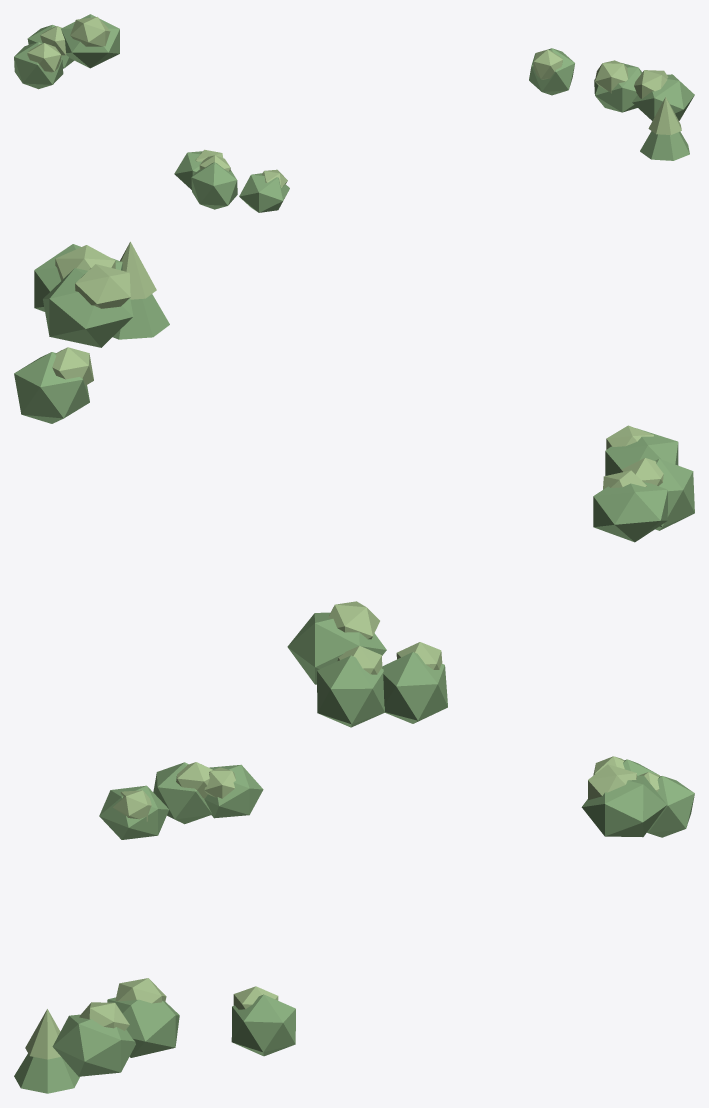
Rendered from path_split_meadow_wind_canopies.fbx.
3 renders of one model, top to bottom at view 1: azimuth 30°, elevation 25°; view 2: azimuth 150°, elevation 25°; view 3: azimuth 270°, elevation 25°, orthographic. The views are drawn at different scales.
Parts seen in each view (by area): view 1: chunk_path_split_meadow__tree_canopy_03, chunk_path_split_meadow__tree_canopy_12, chunk_path_split_meadow__tree_canopy_20, chunk_path_split_meadow__tree_canopy_09, chunk_path_split_meadow__tree_canopy_16, chunk_path_split_meadow__tree_canopy_01, chunk_path_split_meadow__tree_canopy_18, chunk_path_split_meadow__tree_canopy_14, chunk_path_split_meadow__tree_canopy_11, chunk_path_split_meadow__tree_canopy_15, chunk_path_split_meadow__tree_canopy_17, chunk_path_split_meadow__tree_canopy_02 (+4 smaller); view 2: chunk_path_split_meadow__tree_canopy_16, chunk_path_split_meadow__tree_canopy_08, chunk_path_split_meadow__tree_canopy_01, chunk_path_split_meadow__tree_canopy_04, chunk_path_split_meadow__tree_canopy_14, chunk_path_split_meadow__tree_canopy_12, chunk_path_split_meadow__tree_canopy_15, chunk_path_split_meadow__tree_canopy_09, chunk_path_split_meadow__tree_canopy_03, chunk_path_split_meadow__tree_canopy_18, chunk_path_split_meadow__tree_canopy_11, chunk_path_split_meadow__tree_canopy_20 (+3 smaller); view 3: chunk_path_split_meadow__tree_canopy_20, chunk_path_split_meadow__tree_canopy_12, chunk_path_split_meadow__tree_canopy_14, chunk_path_split_meadow__tree_canopy_16, chunk_path_split_meadow__tree_canopy_09, chunk_path_split_meadow__tree_canopy_03, chunk_path_split_meadow__tree_canopy_18, chunk_path_split_meadow__tree_canopy_08, chunk_path_split_meadow__tree_canopy_04, chunk_path_split_meadow__tree_canopy_17, chunk_path_split_meadow__tree_canopy_11, chunk_path_split_meadow__tree_canopy_15 (+5 smaller).
Boxes of the visible parts, x1,y1,x2,y2 form: chunk_path_split_meadow__tree_canopy_03: (191, 162, 237, 209); chunk_path_split_meadow__tree_canopy_12: (61, 14, 119, 68); chunk_path_split_meadow__tree_canopy_20: (632, 74, 694, 120); chunk_path_split_meadow__tree_canopy_09: (239, 173, 289, 212); chunk_path_split_meadow__tree_canopy_16: (594, 63, 642, 112); chunk_path_split_meadow__tree_canopy_01: (14, 42, 63, 89); chunk_path_split_meadow__tree_canopy_18: (640, 131, 689, 160); chunk_path_split_meadow__tree_canopy_14: (529, 48, 574, 95); chunk_path_split_meadow__tree_canopy_11: (70, 17, 110, 46); chunk_path_split_meadow__tree_canopy_15: (595, 60, 628, 93); chunk_path_split_meadow__tree_canopy_17: (648, 97, 681, 134); chunk_path_split_meadow__tree_canopy_02: (27, 43, 61, 72); chunk_path_split_meadow__tree_canopy_16: (43, 268, 133, 347); chunk_path_split_meadow__tree_canopy_08: (317, 655, 385, 727); chunk_path_split_meadow__tree_canopy_01: (382, 652, 447, 723); chunk_path_split_meadow__tree_canopy_04: (593, 482, 667, 542); chunk_path_split_meadow__tree_canopy_14: (14, 352, 89, 423); chunk_path_split_meadow__tree_canopy_12: (287, 612, 386, 684); chunk_path_split_meadow__tree_canopy_15: (75, 264, 130, 308); chunk_path_split_meadow__tree_canopy_09: (605, 428, 678, 475); chunk_path_split_meadow__tree_canopy_03: (655, 459, 694, 530); chunk_path_split_meadow__tree_canopy_18: (113, 294, 169, 339); chunk_path_split_meadow__tree_canopy_11: (328, 601, 379, 639); chunk_path_split_meadow__tree_canopy_20: (34, 244, 122, 311); chunk_path_split_meadow__tree_canopy_20: (52, 1014, 135, 1076); chunk_path_split_meadow__tree_canopy_12: (581, 775, 666, 837); chunk_path_split_meadow__tree_canopy_14: (231, 994, 295, 1056); chunk_path_split_meadow__tree_canopy_16: (107, 997, 179, 1057); chunk_path_split_meadow__tree_canopy_09: (99, 785, 169, 839); chunk_path_split_meadow__tree_canopy_03: (153, 762, 212, 824); chunk_path_split_meadow__tree_canopy_18: (14, 1053, 79, 1093); chunk_path_split_meadow__tree_canopy_08: (647, 776, 694, 837); chunk_path_split_meadow__tree_canopy_04: (204, 764, 263, 818); chunk_path_split_meadow__tree_canopy_17: (25, 1009, 60, 1059); chunk_path_split_meadow__tree_canopy_11: (588, 764, 636, 800); chunk_path_split_meadow__tree_canopy_15: (115, 978, 166, 1003).
Size of the model in its own units: 187 by 25.35 by 179.
